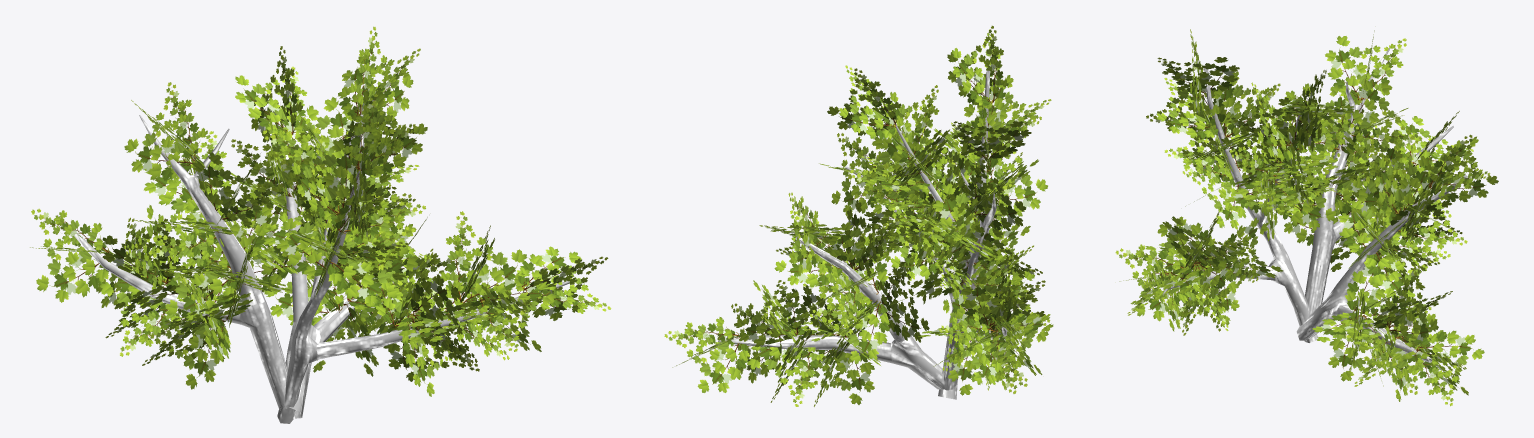
The model's file is bush .fbx.
3 views of the same model, side by side, from view 1: azimuth 30°, elevation 25°; view 2: azimuth 150°, elevation 25°; view 3: azimuth 270°, elevation 25° (orthographic). The views are drawn at different scales.
Parts seen in each view (by area): view 1: LLP3.014, LP+.004; view 2: LLP3.014, LP+.004; view 3: LLP3.014, LP+.004.
Boxes of the visible parts, left/top/right/bottom form: LLP3.014: left=30, top=26, right=611, bottom=396; LP+.004: left=57, top=100, right=575, bottom=423; LLP3.014: left=664, top=25, right=1053, bottom=406; LP+.004: left=718, top=70, right=1007, bottom=399; LLP3.014: left=1115, top=29, right=1498, bottom=406; LP+.004: left=1162, top=48, right=1467, bottom=362.
Size of the model in its own units: 2727 by 2331 by 2585.
